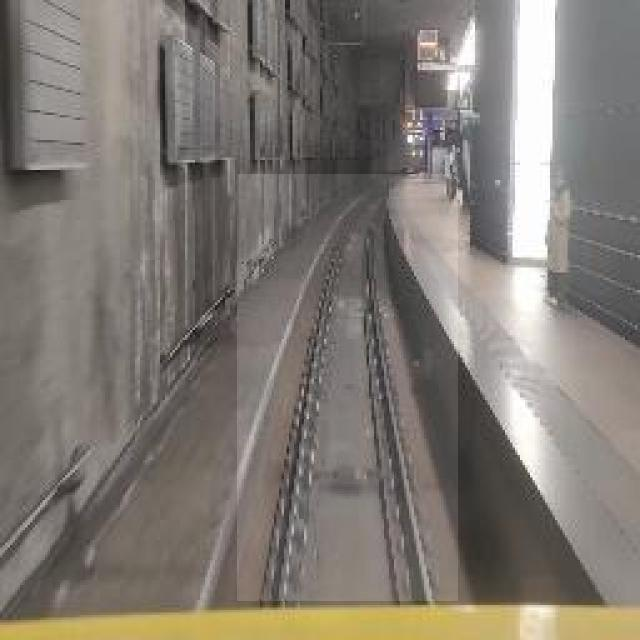rail: (238, 176, 459, 602)
